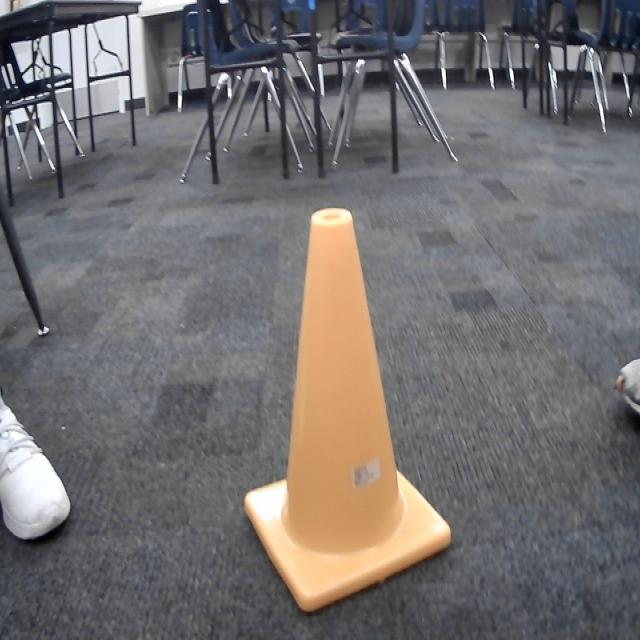cone: (236, 204, 458, 626)
